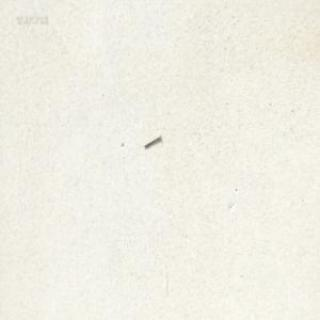Bolttrack_idkeyframe: (142, 133, 160, 148)
